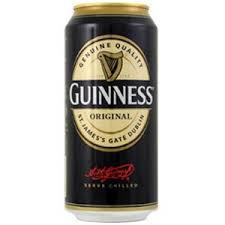beer: (63, 4, 159, 220)
